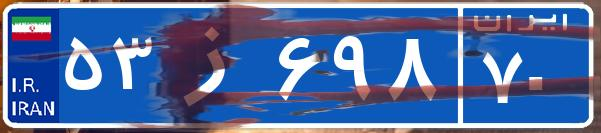0: (525, 38, 570, 115)
3: (110, 28, 158, 105)
5: (57, 26, 110, 107)
6: (273, 28, 330, 110)
7: (475, 38, 525, 113)
8: (385, 28, 445, 110)
9: (330, 28, 385, 110)
ز: (158, 15, 273, 115)
